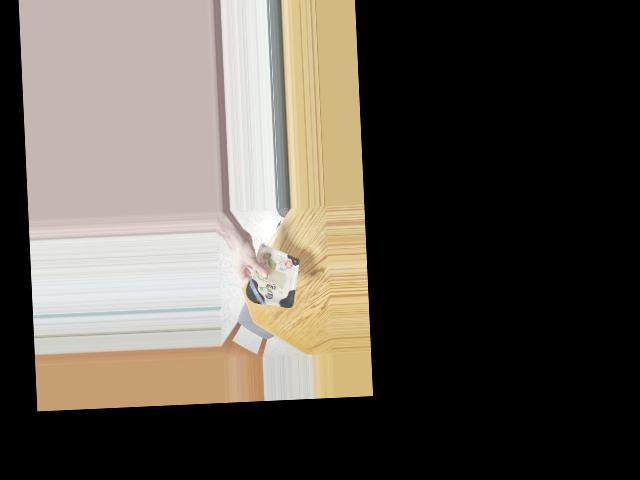cheese: (245, 252, 300, 308)
